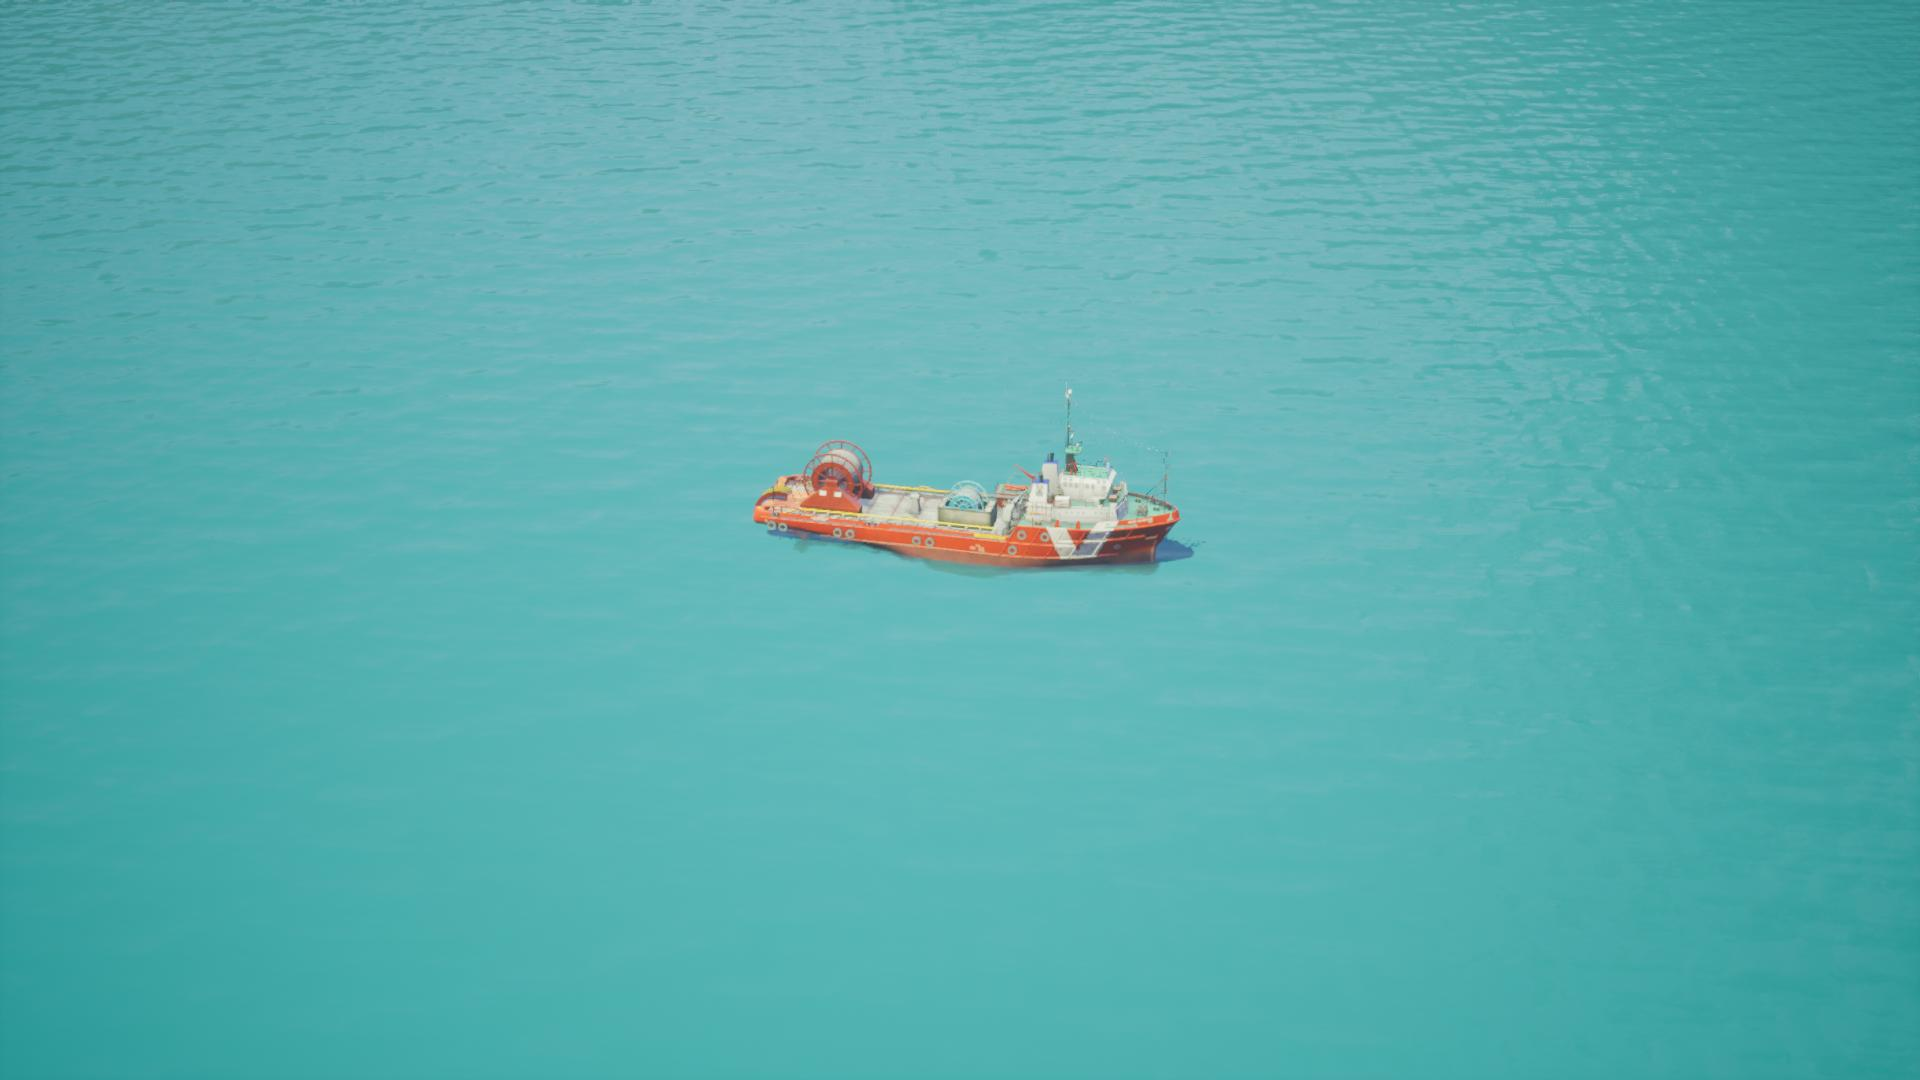Tug Boat: (712, 318, 1271, 700)
